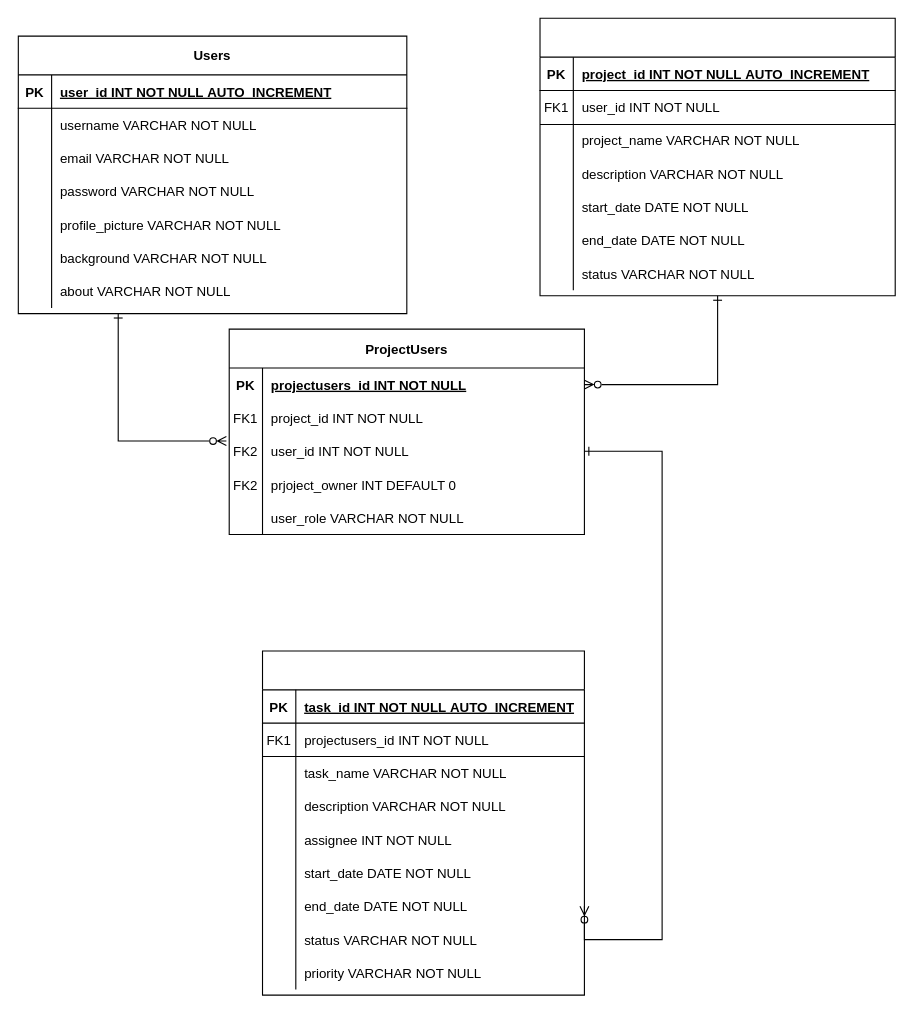
Some shapes in this 914 by 1013 pixel diagram are drawn without their labels. Each missing label, with the box of its shape:
Projects: (539, 17, 895, 296)
Tasks: (261, 650, 584, 995)
